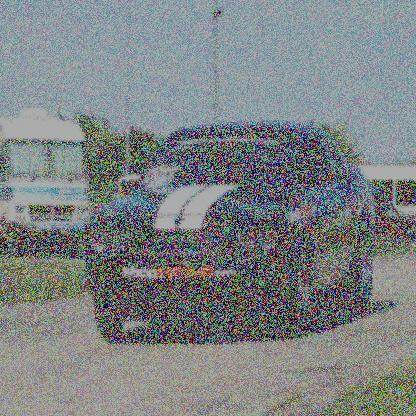Vehicle: (86, 123, 377, 343)
